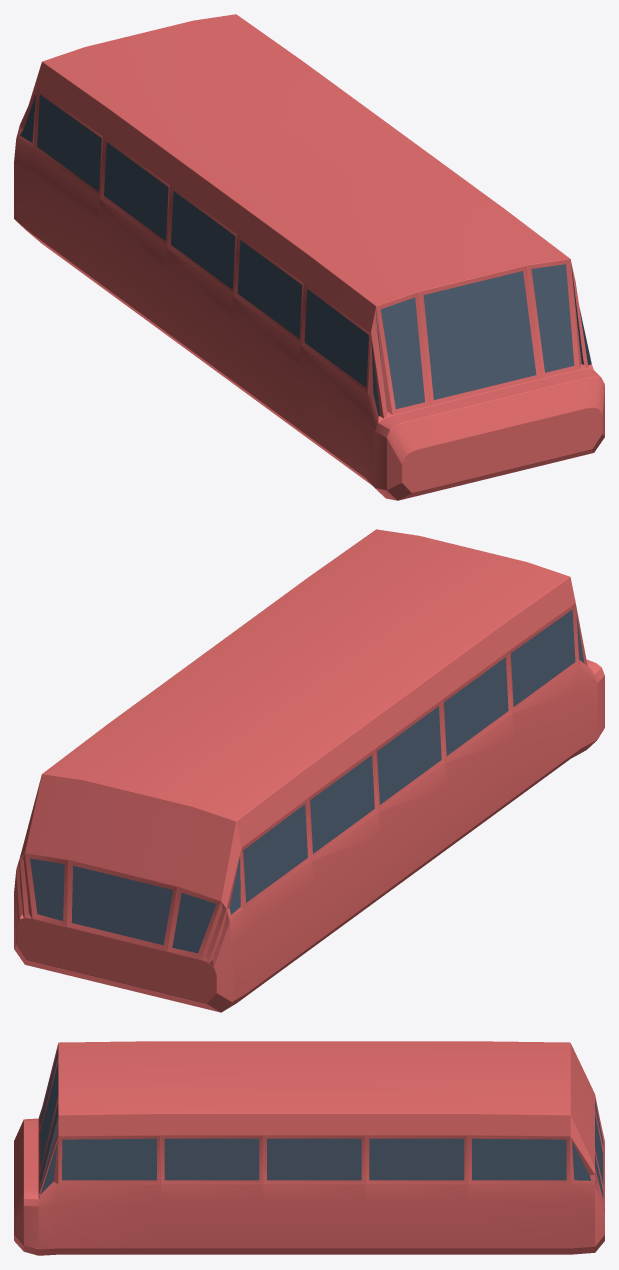
The model's file is bus_shell.fbx.
3 views of the same model, one above another, from view 1: azimuth 30°, elevation 25°; view 2: azimuth 150°, elevation 25°; view 3: azimuth 270°, elevation 25° (orthographic). The views are drawn at different scales.
Parts seen in each view (by area): view 1: ShellBody, ShellGlass; view 2: ShellBody, ShellGlass; view 3: ShellBody, ShellGlass.
Boxes of the visible parts, x1,y1,x2,y2 form: ShellBody: (14,14,604,500); ShellGlass: (20,94,591,416); ShellBody: (14,529,604,1012); ShellGlass: (30,578,584,953); ShellBody: (14,1041,604,1255); ShellGlass: (39,1049,603,1198).
Size of the model in its own units: 8 by 6.46 by 24.
